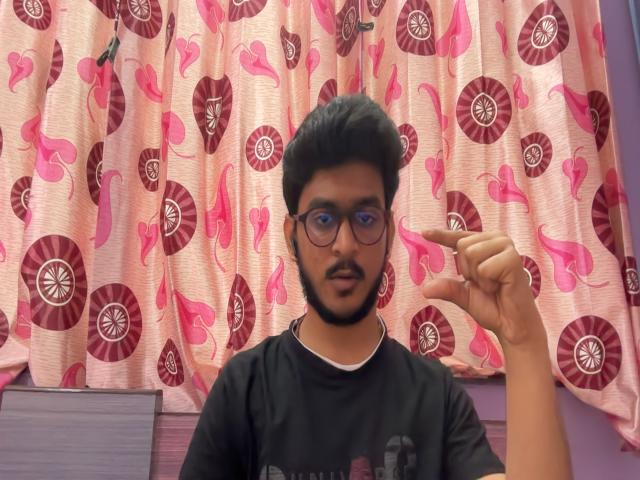No: (418, 213, 564, 389)
